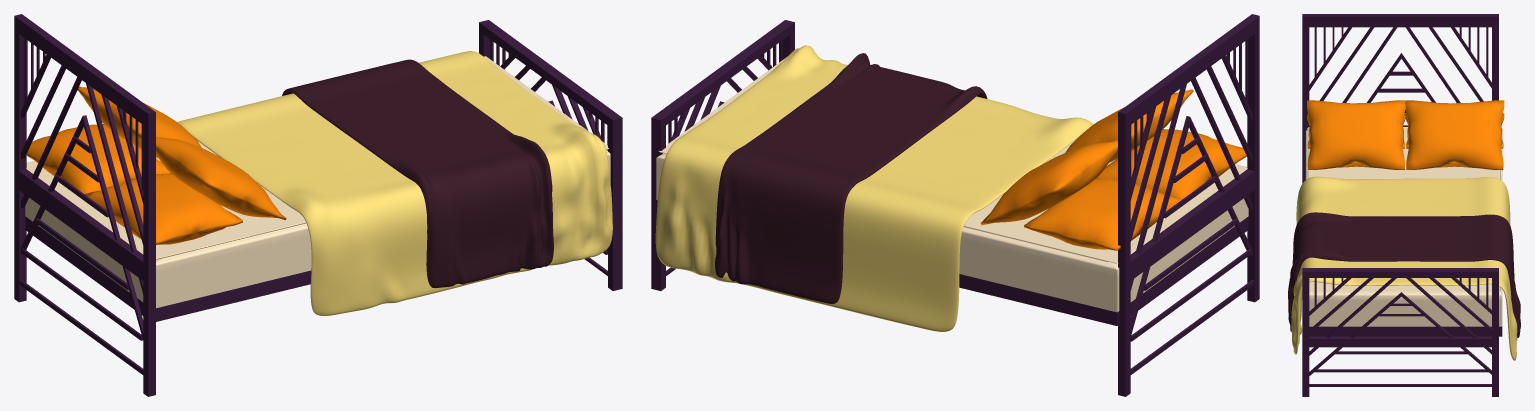
Rendered from bed3.glb.
3 views of the same model, side by side, from view 1: azimuth 30°, elevation 25°; view 2: azimuth 150°, elevation 25°; view 3: azimuth 270°, elevation 25° (orthographic). The views are drawn at different scales.
Bounding box in the file's own units: 1.99 × 1.16 × 1.15.
